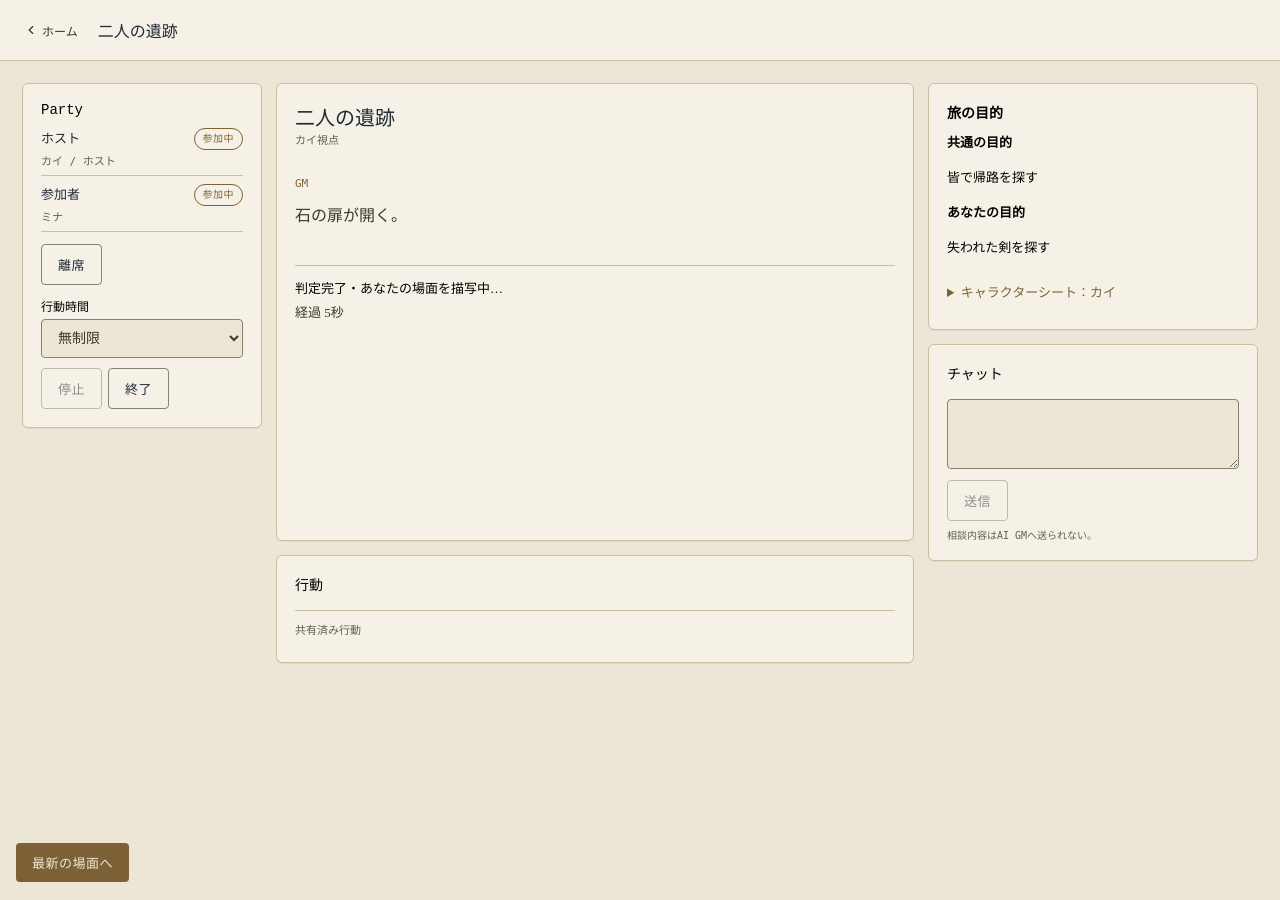
Scenario: renders GM progress below the story with goals and an own character sheet, without a zero countdown
The width and height of the screenshot is (1280, 900).
Expected: the text "皆で帰路を探す" is shown, [947,170,1038,185]
Expected: the text "失われた剣を探す" is shown, [947,240,1050,255]
Click the heading "キャラクターシート：カイ": (1038, 293) [961,285,1116,300]
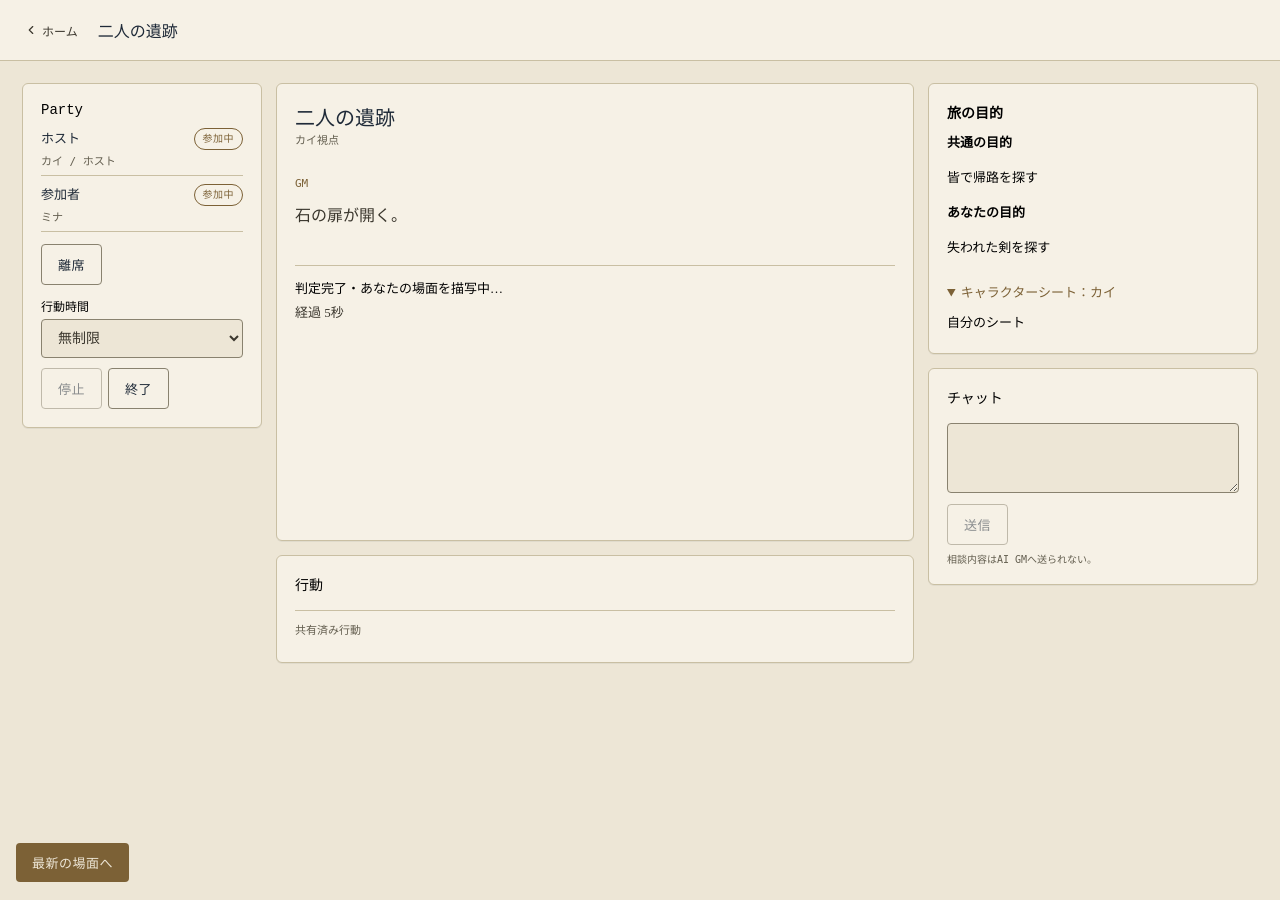
Now the text "自分のシート" is shown, box [947,315,1025,330]
